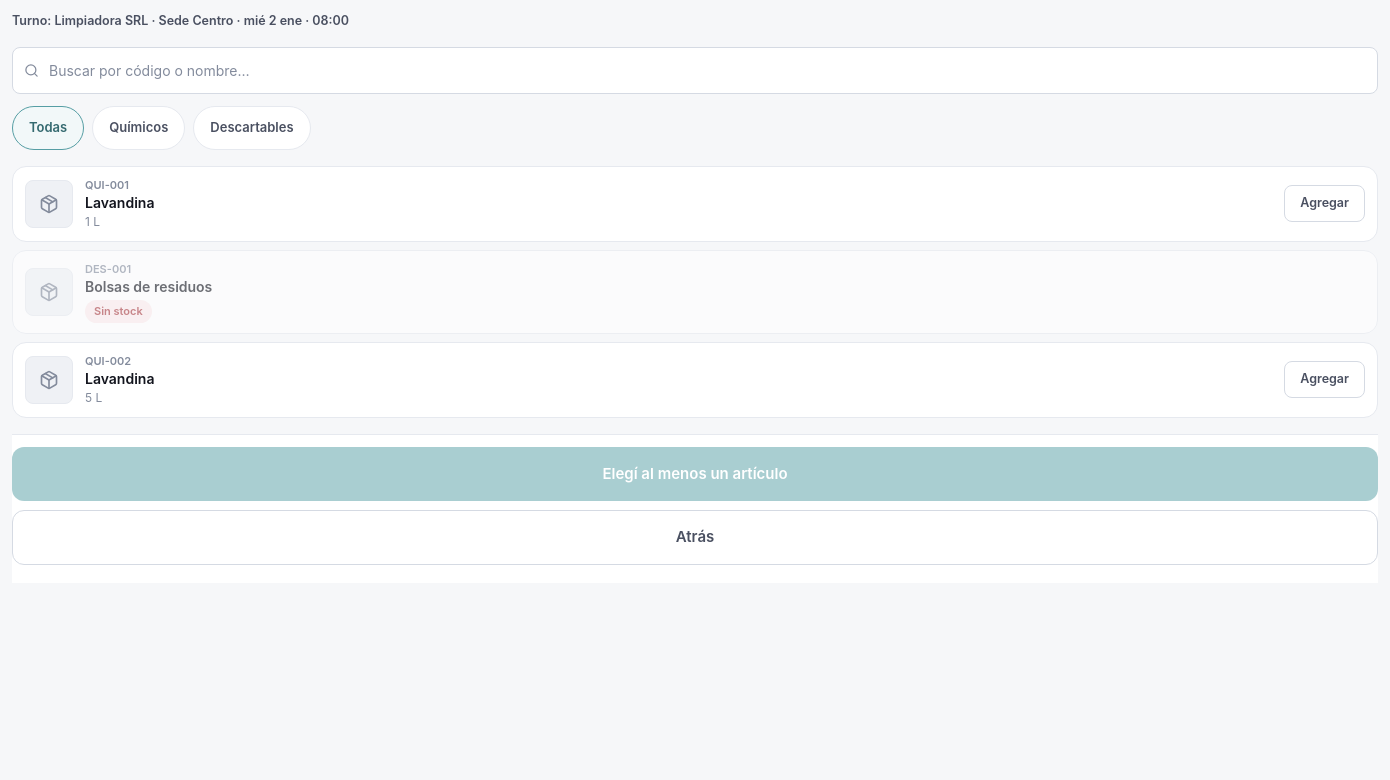
Test: WithdrawPage › muestra el mensaje del servidor cuando no alcanza el stock
The width and height of the screenshot is (1390, 780).
Click the button with aria-label "Agregar Lavandina · 1 L" at (1325, 204), box [1284,185,1365,222]
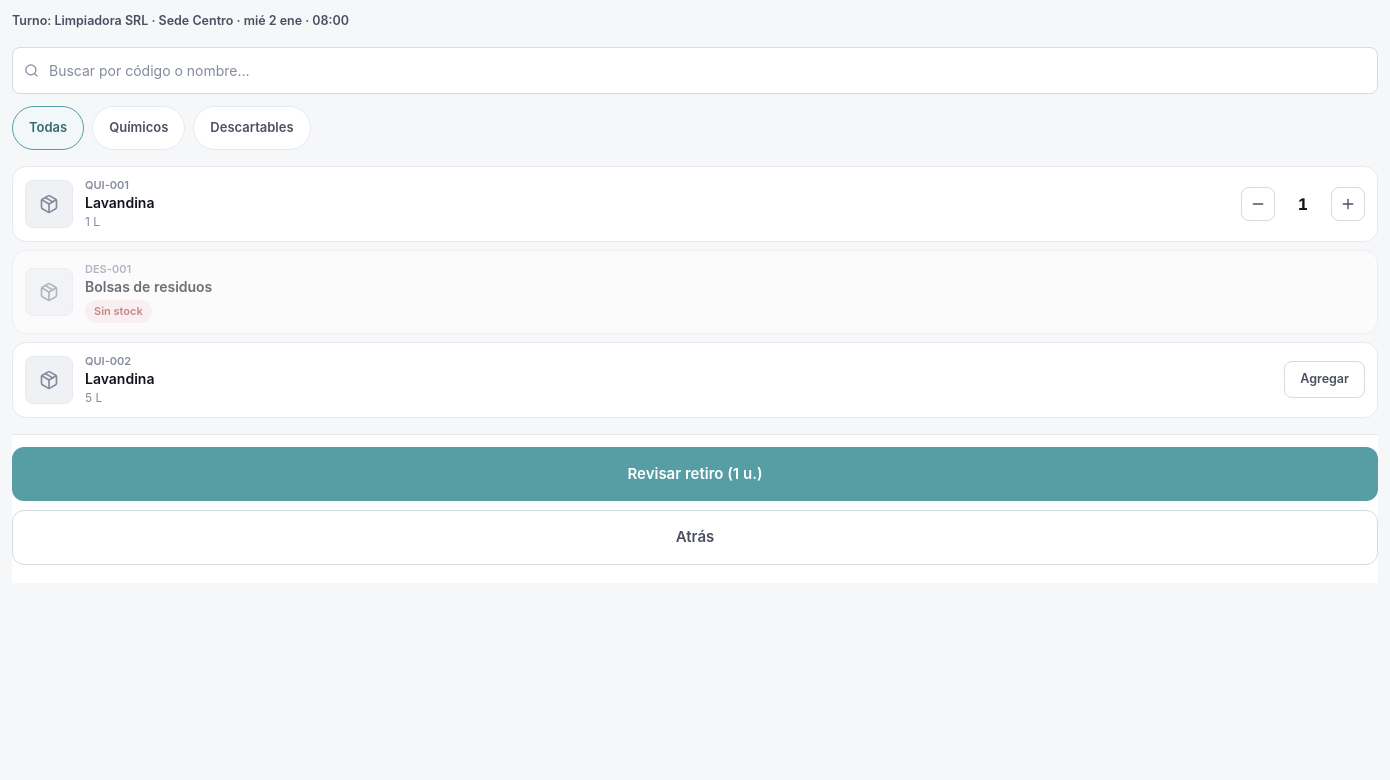
Click the button "Revisar retiro (1 u.)" at (695, 474), box [12,446,1378,501]
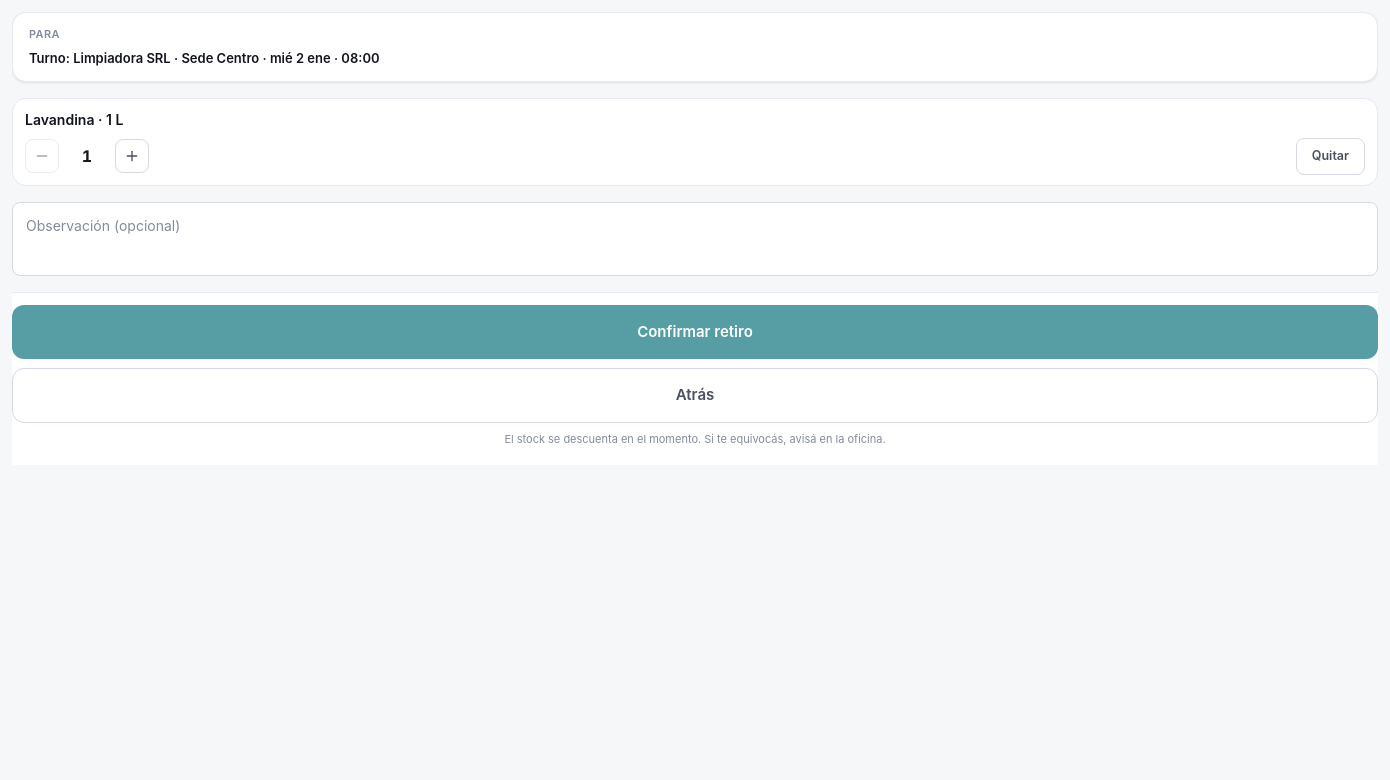
Click the button "Confirmar retiro" at (695, 332), box [12,305,1378,359]
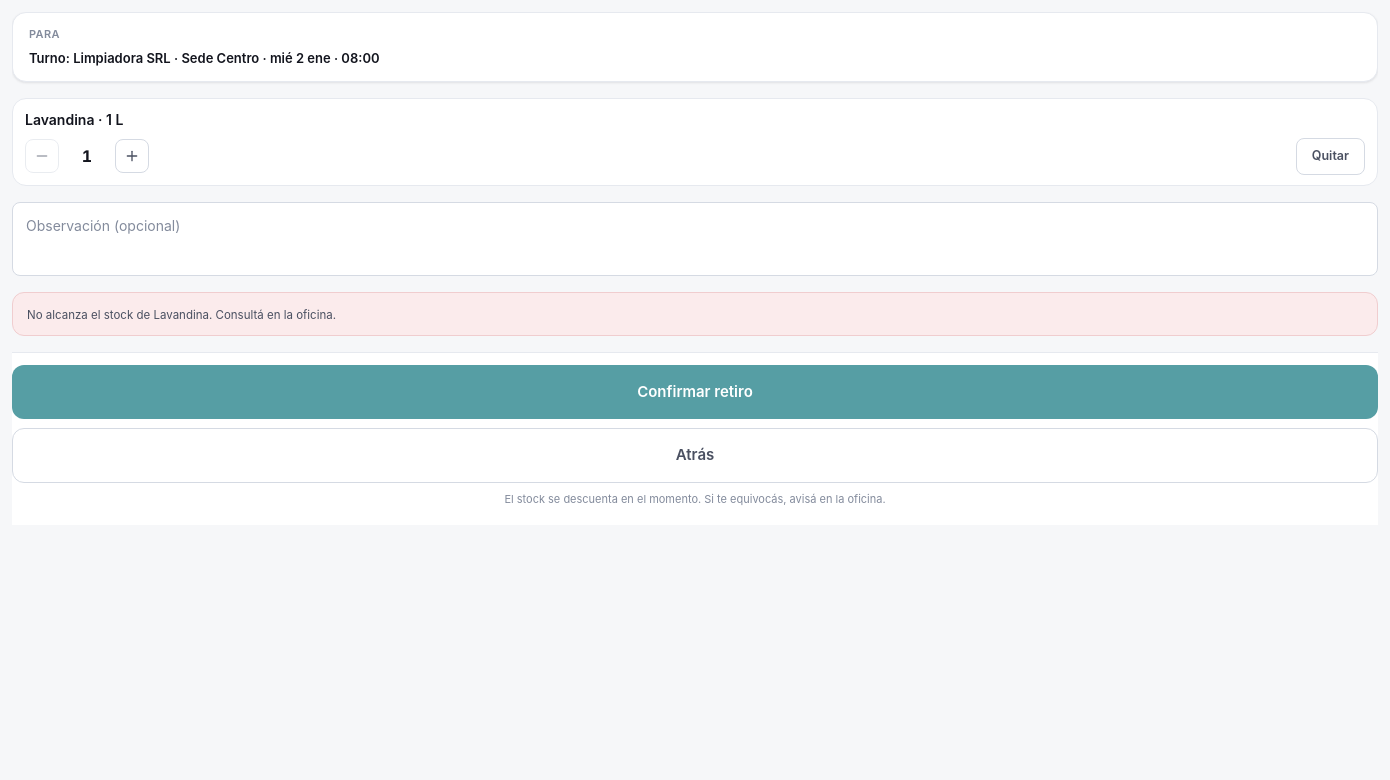
Expected: the button "Confirmar retiro" is enabled, [12,365,1378,419]
Expected: the text "No alcanza el stock de Lavandina. Consultá en la oficina." is shown, [27,307,336,323]
